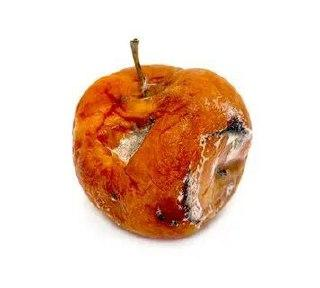Apple: (72, 64, 252, 239)
